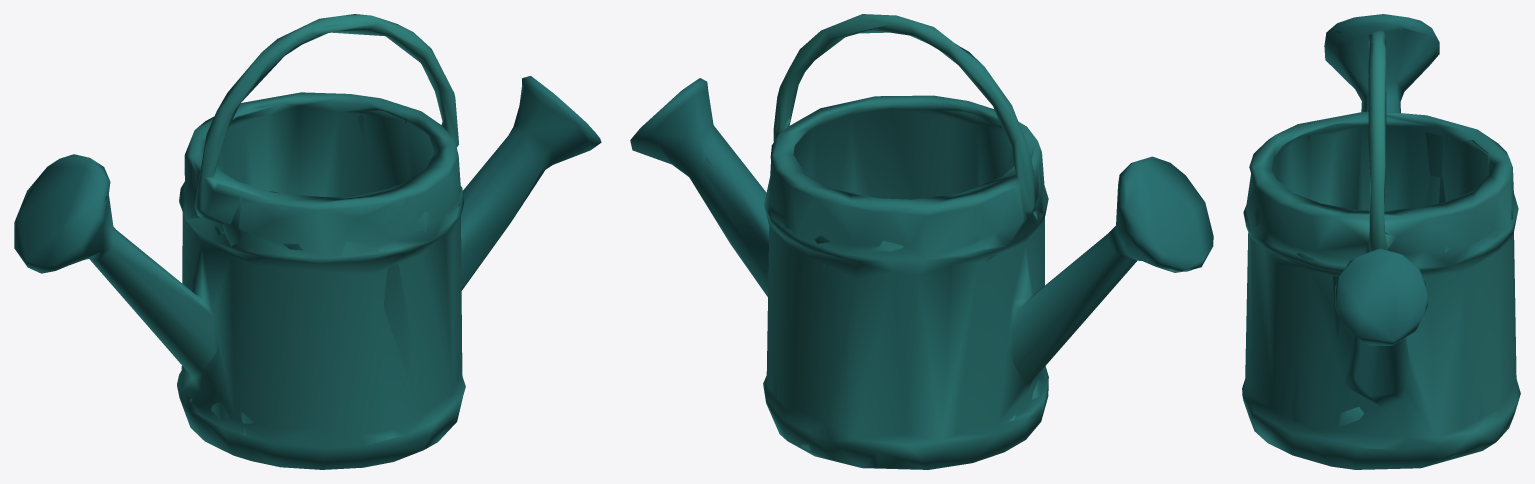
Rendered from gen3d-watering-can-lod1.glb.
3 renders of one model, left to right at view 1: azimuth 30°, elevation 25°; view 2: azimuth 150°, elevation 25°; view 3: azimuth 270°, elevation 25°, orthographic. The views are drawn at different scales.
Parts seen in each view (by area): view 1: part_0; view 2: part_0; view 3: part_0.
Part boxes in pixels (bbox=[...]): part_0: bbox=[14, 14, 601, 469]; part_0: bbox=[630, 14, 1213, 469]; part_0: bbox=[1242, 14, 1520, 469].
Bounding box in the file's own units: 1.5 × 0.9991 × 0.67.
